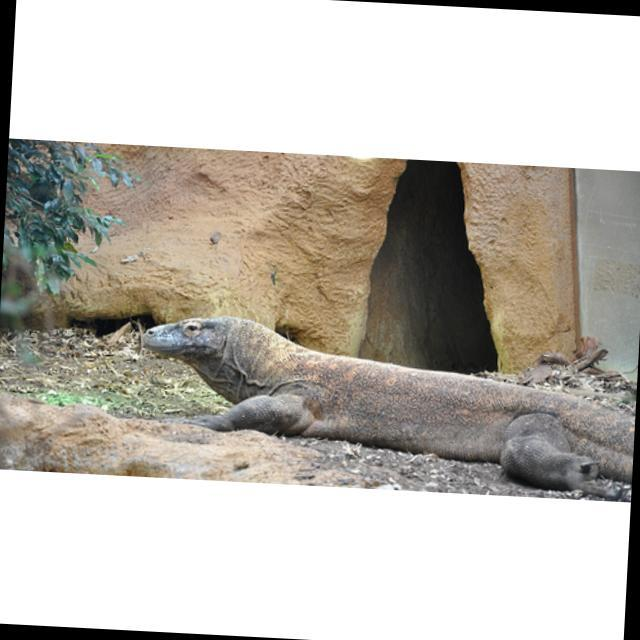KomodoDragon: (138, 307, 640, 494)
